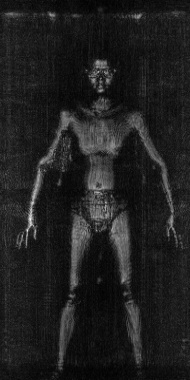gun: (44, 132, 73, 175)
